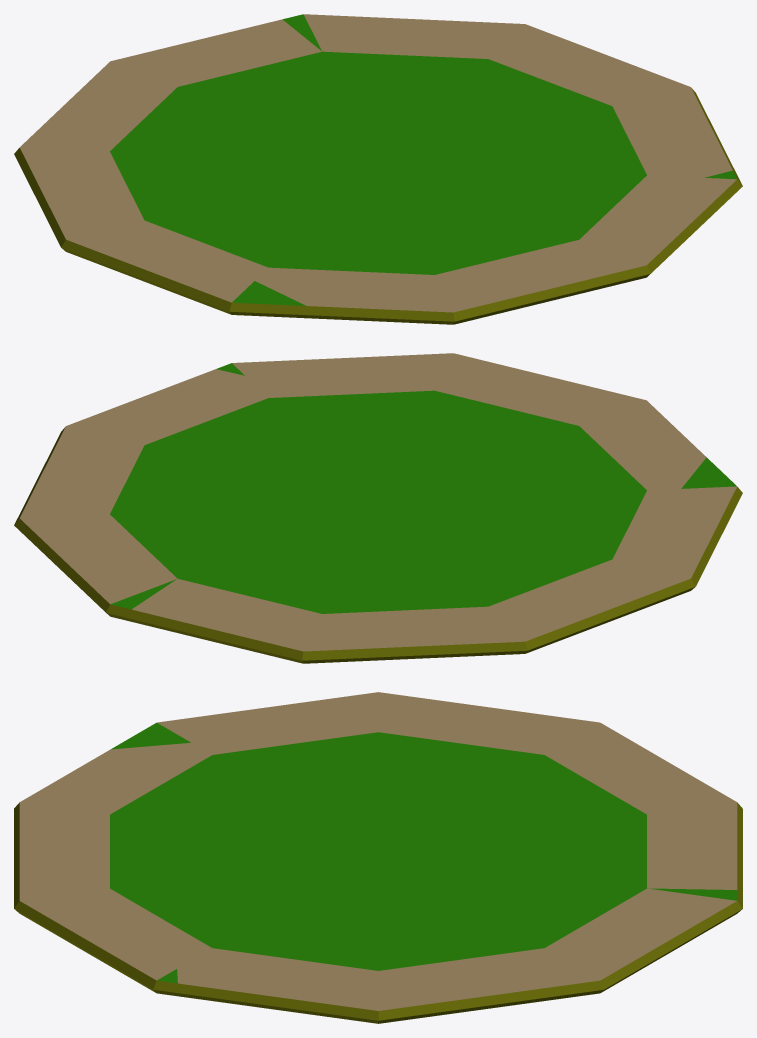
Rendered from Carpet_2B.fbx.
The picture shows the model from 3 angles, top to bottom: view 1: azimuth 30°, elevation 25°; view 2: azimuth 150°, elevation 25°; view 3: azimuth 270°, elevation 25°; orthographic projection. The views are drawn at different scales.
Visible parts, largest first — view 1: pCylinder47; view 2: pCylinder47; view 3: pCylinder47.
Boxes of the visible parts, box(x1,y1,x2,y2) form: pCylinder47: box(14, 14, 742, 324); pCylinder47: box(14, 353, 742, 663); pCylinder47: box(14, 692, 742, 1023).
Bounding box in the file's own units: 203 × 3.75 × 193.
